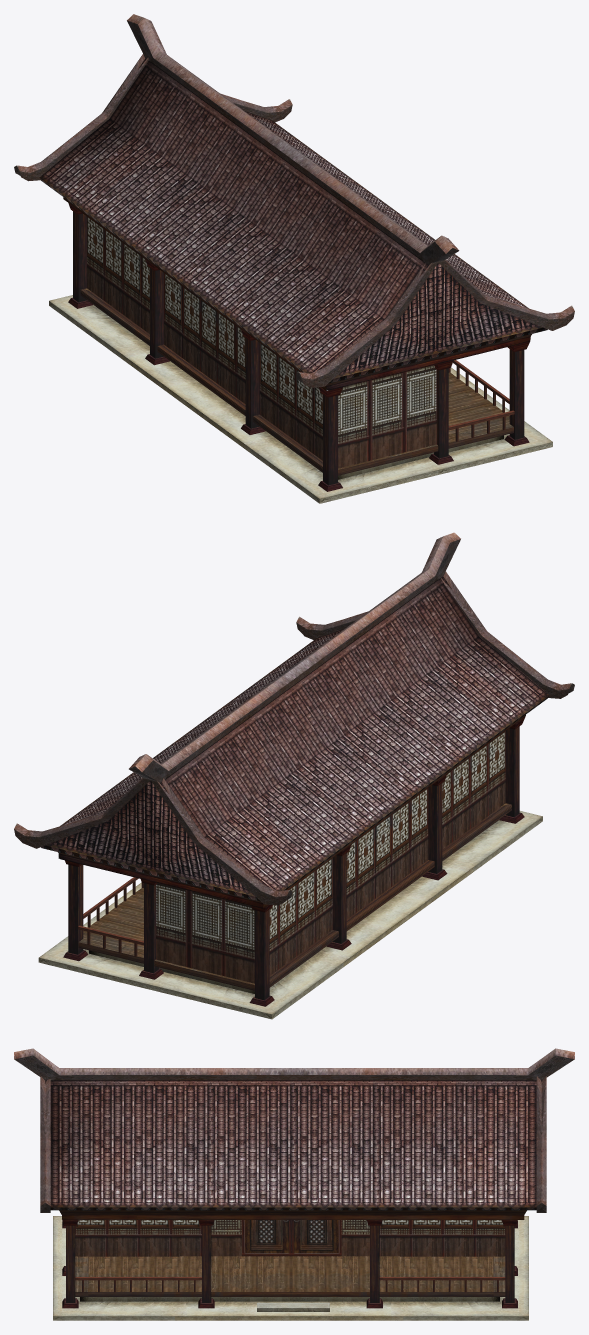
File: ob-033-guesthouse-02.fbx
3 renders of one model, top to bottom at view 1: azimuth 30°, elevation 25°; view 2: azimuth 150°, elevation 25°; view 3: azimuth 270°, elevation 25°, orthographic. The views are drawn at different scales.
Visible parts, largest first — view 1: ob-033-guesthouse-01, ob-033-guesthouse-02; view 2: ob-033-guesthouse-01, ob-033-guesthouse-02; view 3: ob-033-guesthouse-01, ob-033-guesthouse-02.
Boxes of the visible parts, x1,y1,x2,y2 form: ob-033-guesthouse-01: [14, 14, 574, 491]; ob-033-guesthouse-02: [49, 211, 552, 503]; ob-033-guesthouse-01: [14, 532, 574, 1006]; ob-033-guesthouse-02: [38, 726, 542, 1019]; ob-033-guesthouse-01: [14, 1048, 574, 1311]; ob-033-guesthouse-02: [53, 1210, 528, 1320].
Size of the model in its own units: 13.56 by 11.85 by 27.45.
